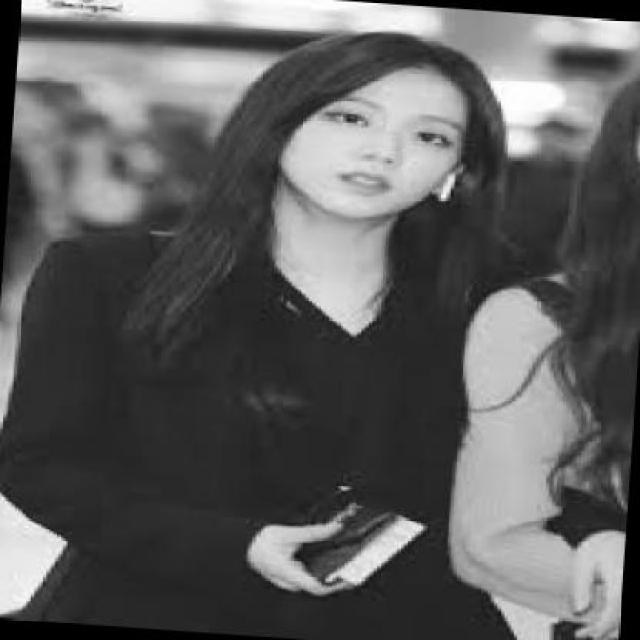earphone: (436, 164, 467, 217)
